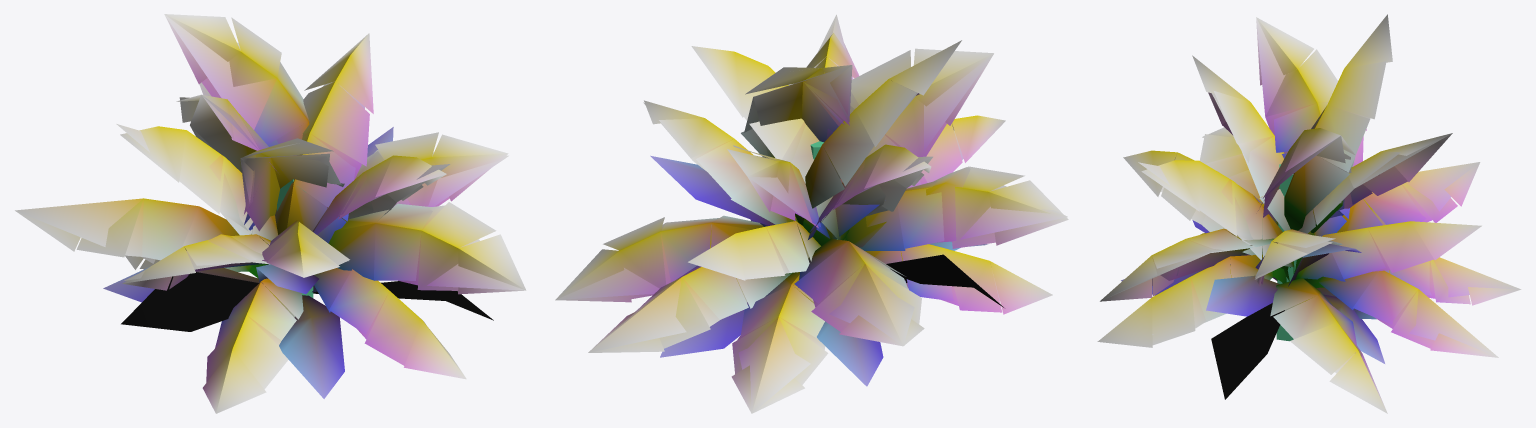
Rendered from tree_palm_g.dae.
3 renders of one model, left to right at view 1: azimuth 30°, elevation 25°; view 2: azimuth 150°, elevation 25°; view 3: azimuth 270°, elevation 25°, orthographic. The views are drawn at different scales.
Visible parts, largest first — view 1: tree_oak_bush_a200, tree_oak_bush_a70; view 2: tree_oak_bush_a200, tree_oak_bush_a70; view 3: tree_oak_bush_a200, tree_oak_bush_a70, Colmesh-1.
Boxes of the visible parts, x1,y1,x2,y2 form: tree_oak_bush_a200: [15, 14, 526, 413]; tree_oak_bush_a70: [15, 15, 525, 345]; tree_oak_bush_a200: [555, 32, 1068, 413]; tree_oak_bush_a70: [556, 14, 1067, 413]; tree_oak_bush_a200: [1097, 14, 1520, 413]; tree_oak_bush_a70: [1104, 17, 1521, 410]; Colmesh-1: [1276, 164, 1296, 341].
Bounding box in the file's own units: 7.79 × 7.58 × 5.63.
